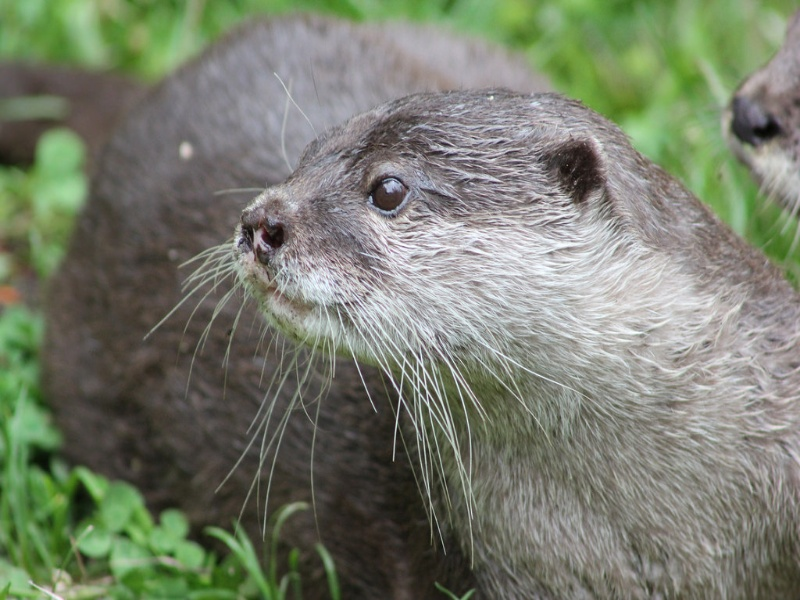minkish: (219, 97, 644, 358)
